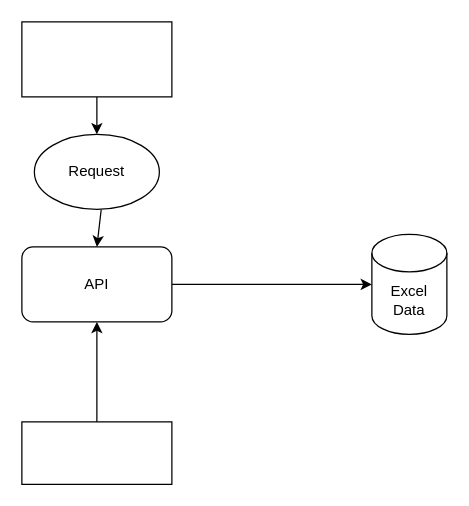
The diagram is 469 pixels wide and 506 high, and some of its shapes have lost their labels. The box of each missing label's shape, as (x1, y1, x2, y2) in pixels:
FrontEnd: (21, 21, 172, 97)
Model: (21, 421, 172, 484)
